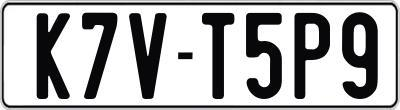5: (243, 12, 282, 104)
7: (79, 13, 115, 100)
9: (339, 11, 379, 103)
K: (34, 10, 70, 102)
P: (292, 11, 328, 102)
T: (200, 10, 236, 102)
V: (126, 13, 166, 104)
